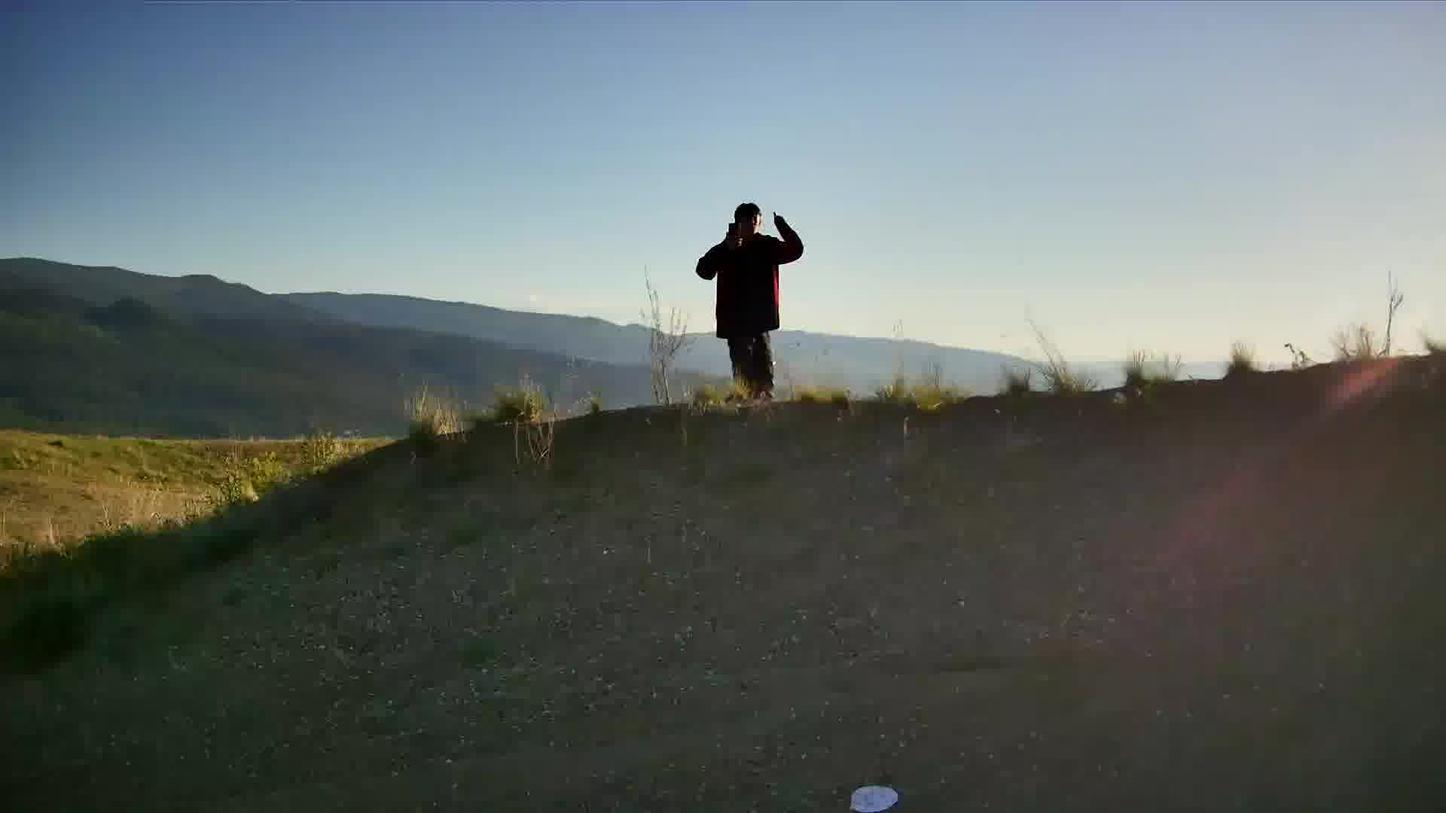Target: (846, 781, 902, 813)
